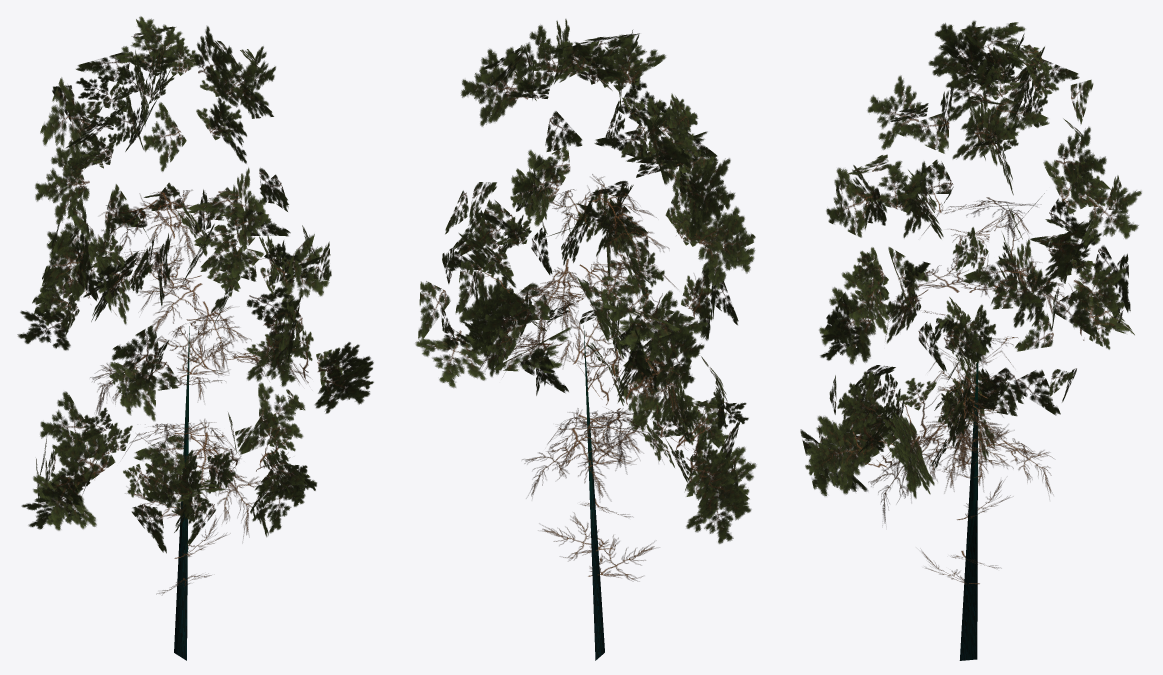
File: scots_pine.glb
3 renders of one model, left to right at view 1: azimuth 30°, elevation 25°; view 2: azimuth 150°, elevation 25°; view 3: azimuth 270°, elevation 25°, orthographic. The views are drawn at different scales.
Visible parts, largest first — view 1: A_LOD1; view 2: A_LOD1; view 3: A_LOD1.
Part boxes in pixels (<box>): A_LOD1: <box>17,16,373,660</box>; A_LOD1: <box>415,19,756,660</box>; A_LOD1: <box>800,20,1141,660</box>.
Size of the model in its own units: 2.53 by 4.6 by 2.36.
2 materials, 2 textured.
